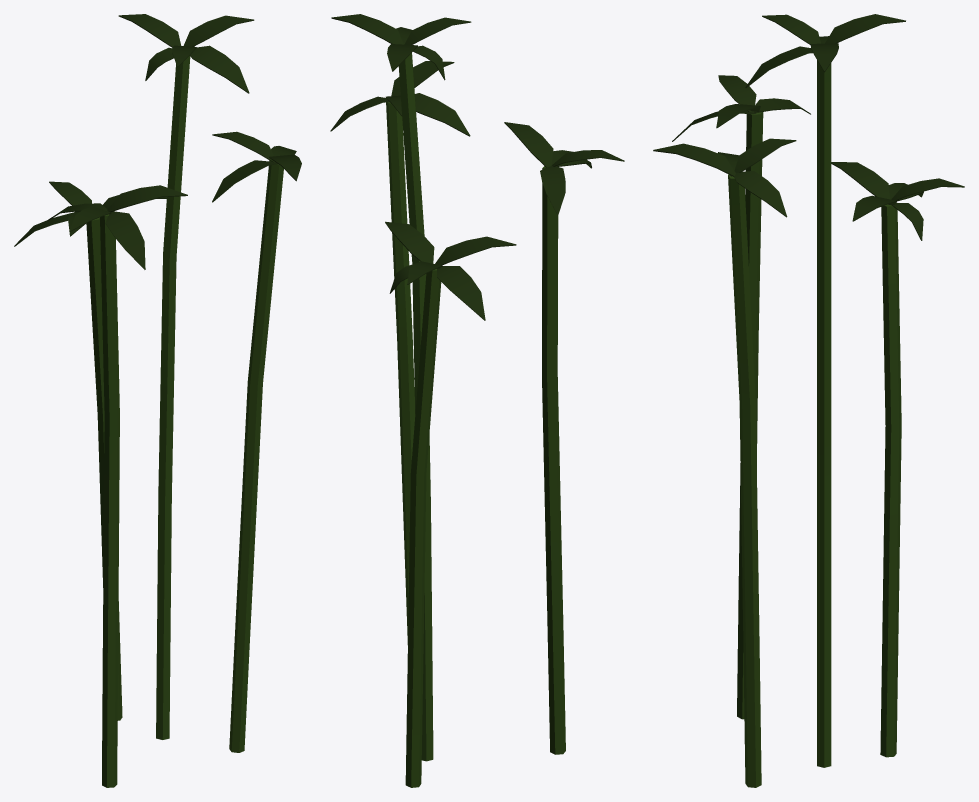
The model's file is SM_bamboo_tree_01.fbx.
3 renders of one model, left to right at view 1: azimuth 30°, elevation 25°; view 2: azimuth 150°, elevation 25°; view 3: azimuth 270°, elevation 25°, orthographic. The views are drawn at different scales.
Visible parts, largest first — view 1: Line003; view 2: Line003; view 3: Line003.
Boxes of the visible parts, x1,y1,x2,y2 form: Line003: [14, 14, 301, 787]; Line003: [330, 14, 624, 787]; Line003: [653, 14, 964, 787].
Size of the model in its own units: 56.38 by 149 by 56.41.
